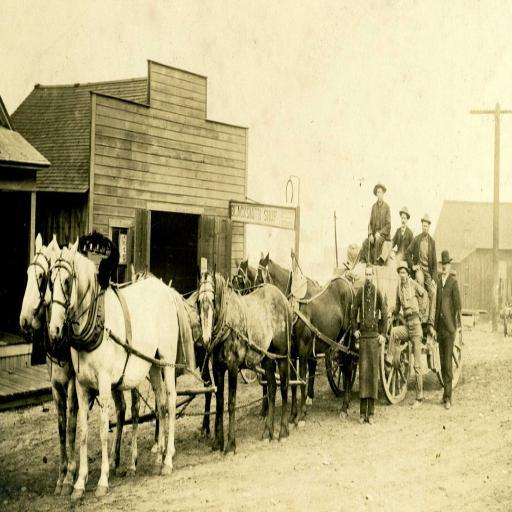Horse: (19, 236, 357, 503)
